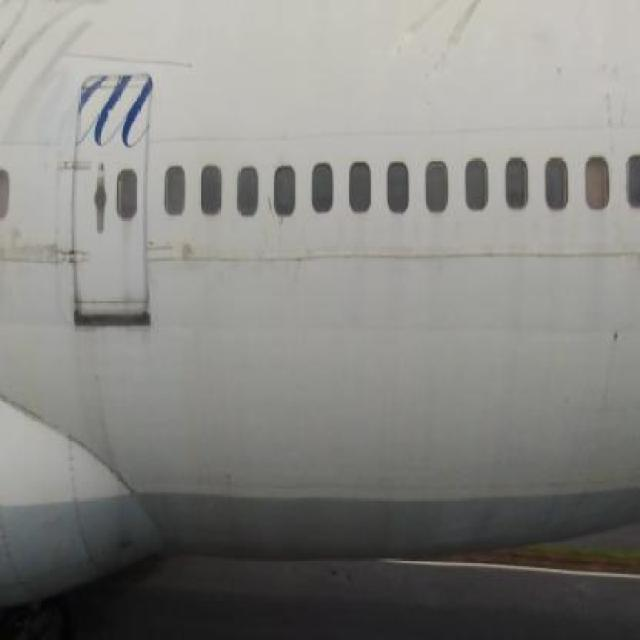Scartch: (382, 0, 492, 94), (0, 6, 72, 125), (597, 56, 629, 170), (12, 235, 94, 276), (604, 299, 630, 358)
